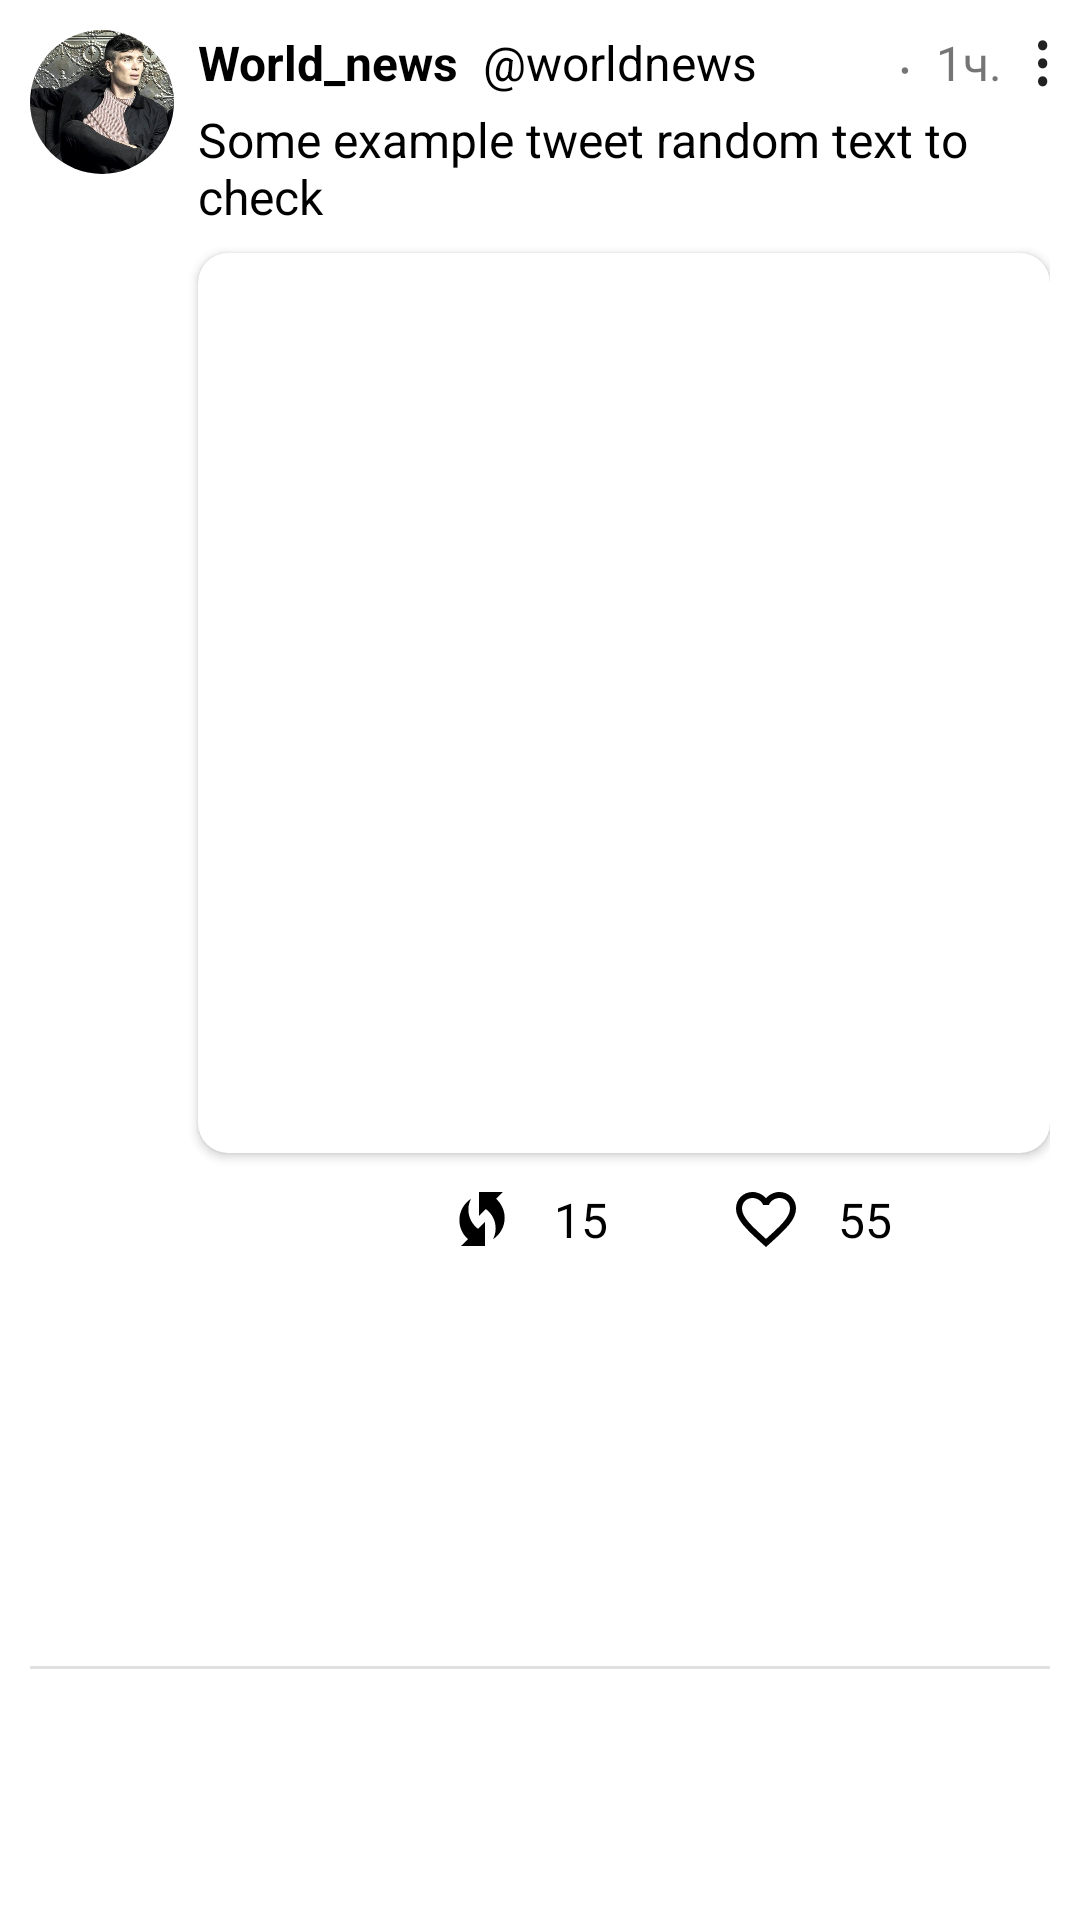

Locate icon controls on the screen. Image size 1080x1920, boxes as [x1, y1, x2, y2].
like button: [736, 1192, 796, 1247]
retweet button: [459, 1192, 505, 1246]
